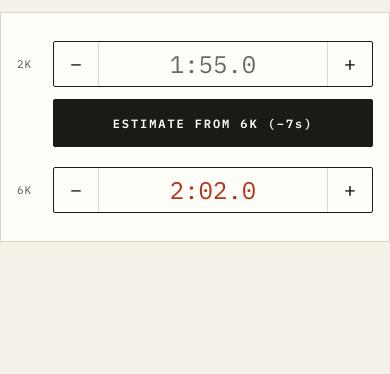
Test case: the derivation offer (ui-notes round, item 2) › typing in the target field is declining (task review fix) › disappears the instant the rower types in the target field themselves
Type "2" into the field named "2k split" at {"x": 213, "y": 64}, box 107,42 -> 319,86
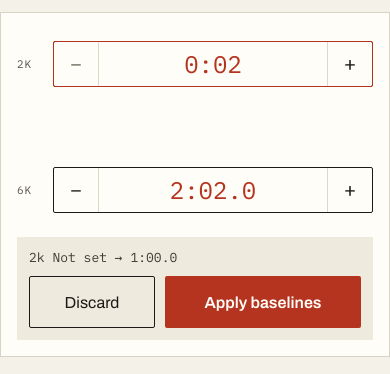
Check: the button "ESTIMATE FROM" is gone
